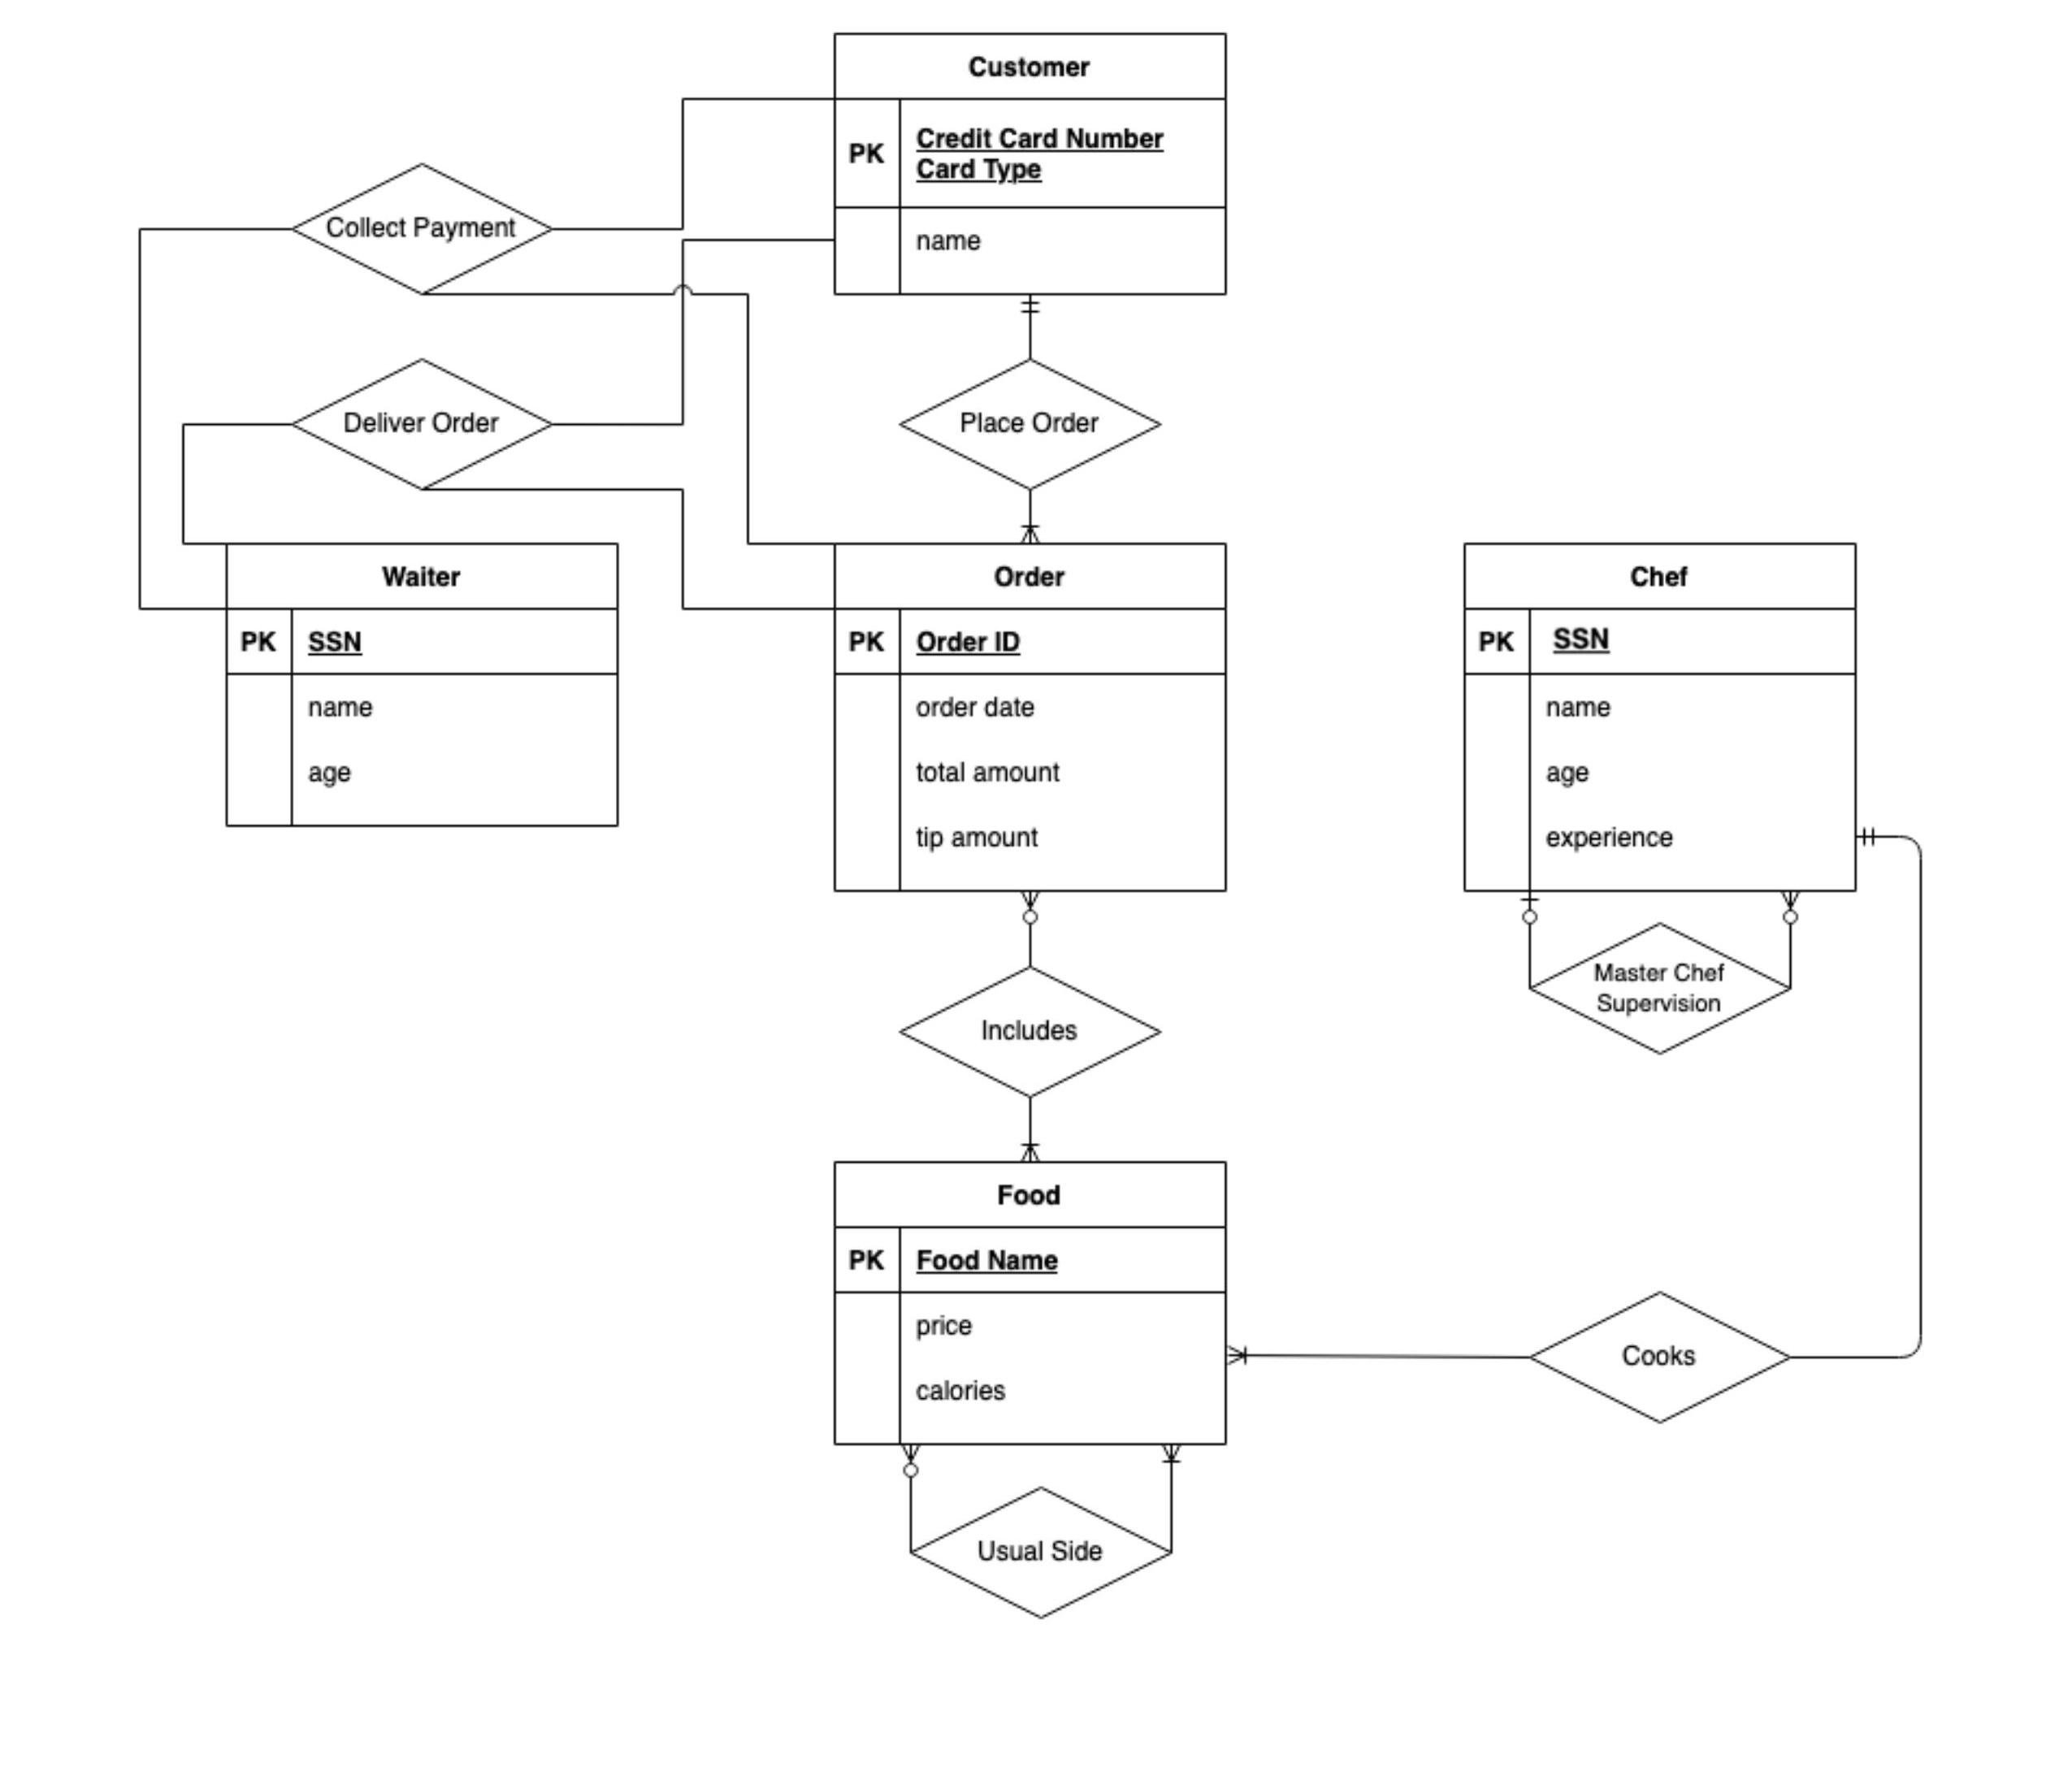Entity: (1462, 541, 1859, 895), (832, 541, 1230, 893), (224, 541, 622, 830), (832, 1159, 1230, 1447), (832, 32, 1230, 298)
Relationship: (911, 1485, 1172, 1619), (900, 359, 1163, 492), (291, 358, 551, 490), (1531, 923, 1792, 1055), (899, 967, 1161, 1098), (292, 162, 551, 294), (1529, 1291, 1788, 1424)
